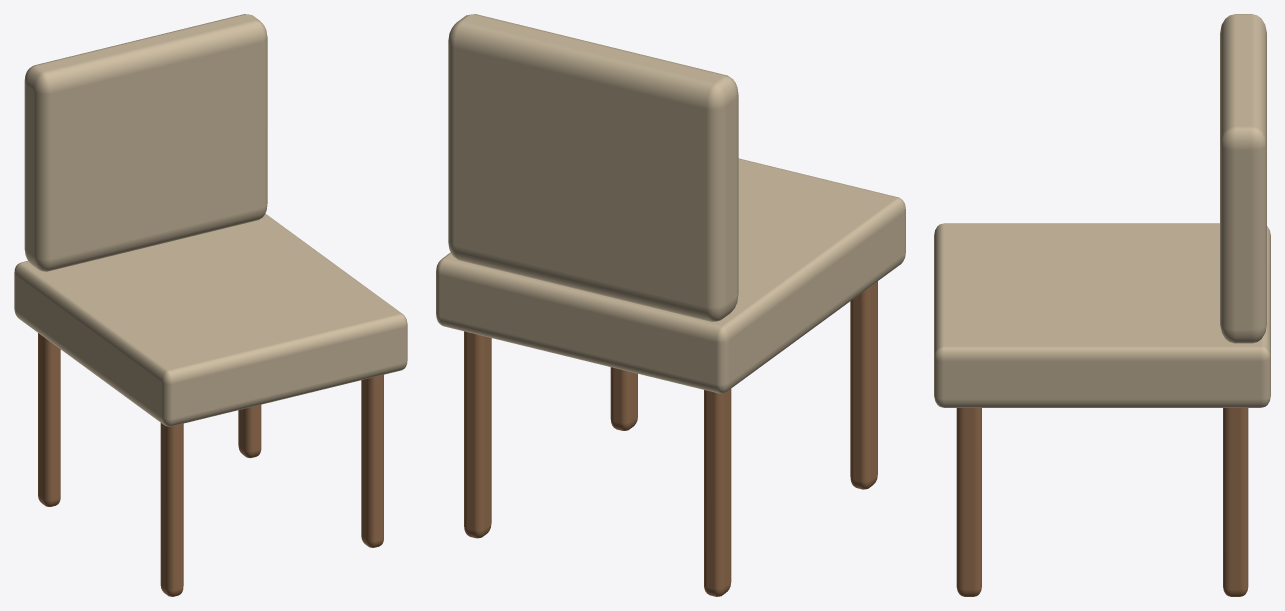
Rendered from chair-soft.glb.
3 renders of one model, left to right at view 1: azimuth 30°, elevation 25°; view 2: azimuth 150°, elevation 25°; view 3: azimuth 270°, elevation 25°, orthographic. The views are drawn at different scales.
Bounding box in the file's own units: 0.5 × 0.85 × 0.55.
